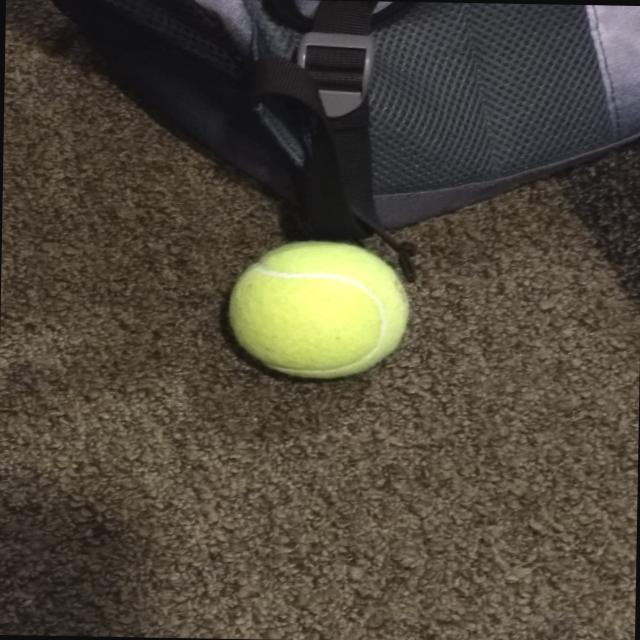Tennis Ball: (227, 239, 409, 380)
